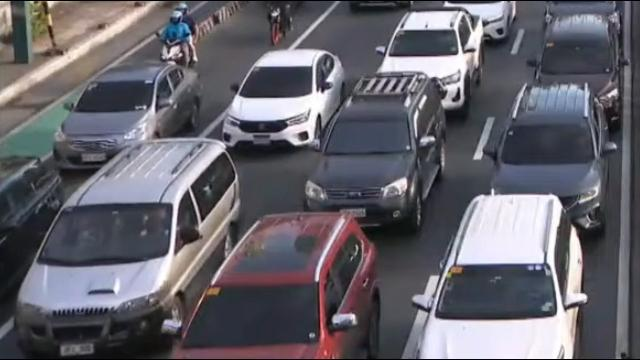car: (178, 214, 381, 360), (412, 193, 589, 360), (302, 72, 450, 232), (488, 82, 612, 238), (44, 62, 207, 169), (218, 48, 346, 152), (530, 15, 623, 133), (0, 157, 68, 303), (440, 0, 519, 41), (540, 1, 624, 29)
motorcycle: (151, 29, 199, 72), (257, 0, 295, 50)
pickup-truck: (372, 12, 486, 111)
van: (11, 138, 239, 360)
